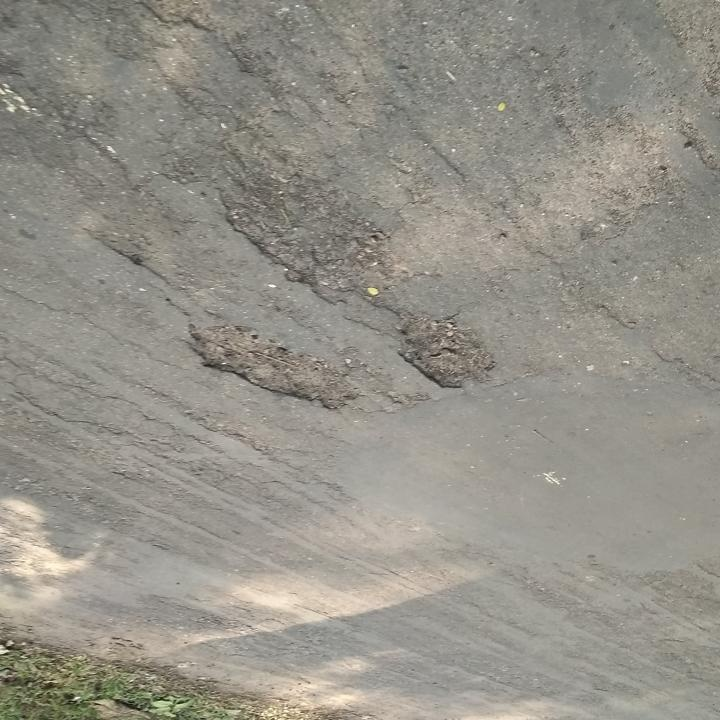pothole: (216, 169, 400, 305), (182, 321, 363, 414), (394, 309, 500, 392)
